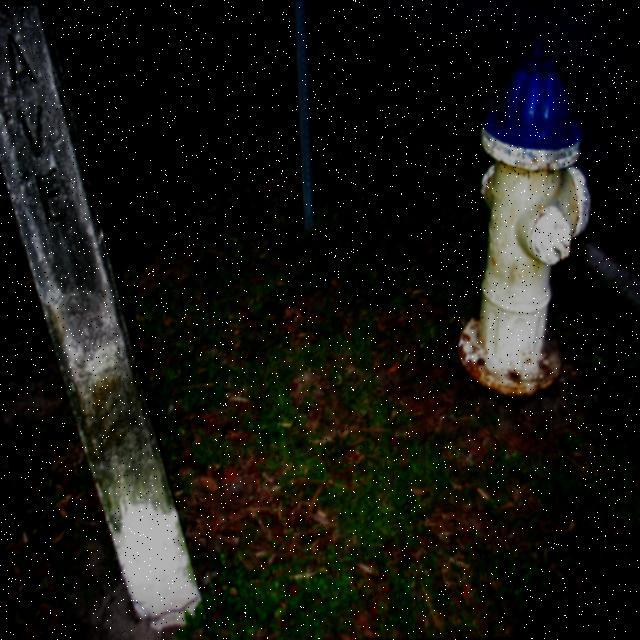fire_hydrant: (452, 36, 596, 396)
